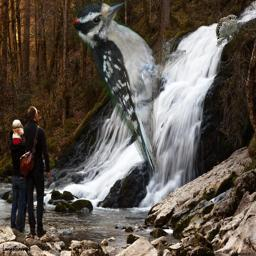Cuckoo: (215, 14, 238, 48)
Woodpecker: (73, 1, 186, 177)
